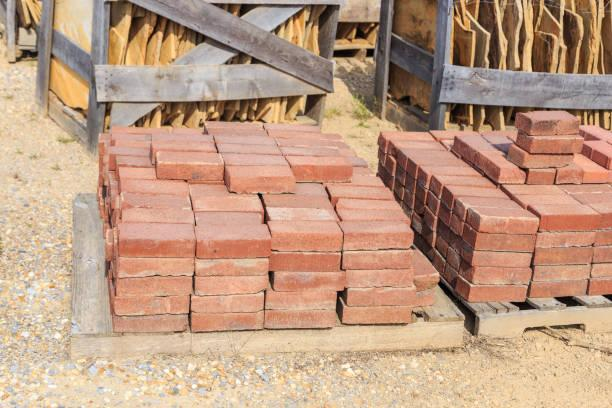Bricks: (271, 273, 344, 293), (193, 257, 271, 275), (340, 286, 412, 305), (120, 242, 193, 260), (121, 222, 195, 239), (271, 251, 342, 268), (191, 278, 270, 293), (118, 299, 187, 316), (262, 309, 331, 326), (119, 280, 197, 295), (198, 225, 274, 240), (190, 295, 261, 311), (115, 318, 181, 335), (189, 313, 263, 328), (275, 233, 339, 250), (261, 194, 329, 210), (337, 208, 406, 223), (343, 272, 421, 285), (192, 198, 264, 212), (473, 252, 539, 267), (234, 178, 304, 192), (478, 234, 539, 250), (196, 244, 271, 257), (473, 269, 530, 286), (266, 296, 334, 310), (529, 280, 588, 296), (270, 208, 332, 223), (159, 170, 225, 184), (295, 166, 356, 181), (122, 183, 192, 196), (226, 166, 295, 179), (220, 154, 289, 167), (481, 147, 518, 171), (539, 233, 594, 249), (120, 262, 193, 274), (120, 198, 187, 211), (269, 222, 341, 234), (408, 152, 462, 168), (345, 235, 410, 248), (479, 218, 535, 233), (344, 253, 414, 265), (555, 180, 611, 195), (533, 266, 585, 282), (461, 129, 494, 154), (524, 152, 575, 168), (343, 221, 405, 234), (288, 153, 350, 166), (276, 127, 329, 142), (195, 211, 260, 223), (335, 196, 400, 208), (537, 250, 591, 263), (278, 142, 335, 154), (159, 155, 221, 166), (344, 312, 409, 322), (449, 138, 475, 163), (216, 141, 275, 152), (472, 289, 524, 301), (546, 216, 602, 227), (575, 189, 611, 206), (532, 122, 581, 134), (390, 137, 439, 149), (591, 273, 611, 302), (438, 172, 486, 184), (533, 140, 581, 152), (449, 186, 501, 197), (421, 163, 472, 174), (124, 212, 194, 220), (471, 207, 526, 217), (459, 198, 514, 208), (509, 184, 557, 195), (529, 110, 573, 122), (477, 157, 497, 183), (399, 146, 449, 156), (531, 206, 593, 214), (153, 133, 215, 141), (518, 196, 576, 204), (155, 145, 217, 152), (590, 196, 611, 214), (499, 170, 524, 185), (421, 208, 436, 232), (562, 169, 585, 184), (219, 134, 275, 140), (416, 165, 429, 190), (594, 260, 611, 279), (586, 168, 612, 180), (593, 246, 611, 262), (418, 273, 436, 289), (426, 190, 439, 211), (517, 130, 532, 148), (436, 223, 451, 241), (414, 182, 426, 204), (419, 228, 432, 248), (437, 207, 451, 225), (529, 171, 556, 180), (425, 181, 440, 197), (448, 249, 462, 266), (403, 163, 418, 178), (390, 181, 405, 196), (456, 282, 472, 296), (416, 293, 433, 306), (595, 233, 611, 246), (510, 147, 522, 164), (463, 225, 475, 241), (413, 199, 423, 218), (464, 260, 473, 281), (442, 188, 450, 211), (515, 114, 527, 129), (405, 178, 418, 191), (452, 238, 464, 251), (436, 239, 448, 252), (434, 255, 446, 268), (464, 246, 475, 260), (404, 191, 411, 213), (452, 216, 461, 232), (396, 168, 405, 184), (469, 213, 479, 227), (455, 203, 465, 217), (378, 136, 386, 149), (397, 154, 405, 165), (447, 266, 453, 280), (388, 145, 397, 153)
